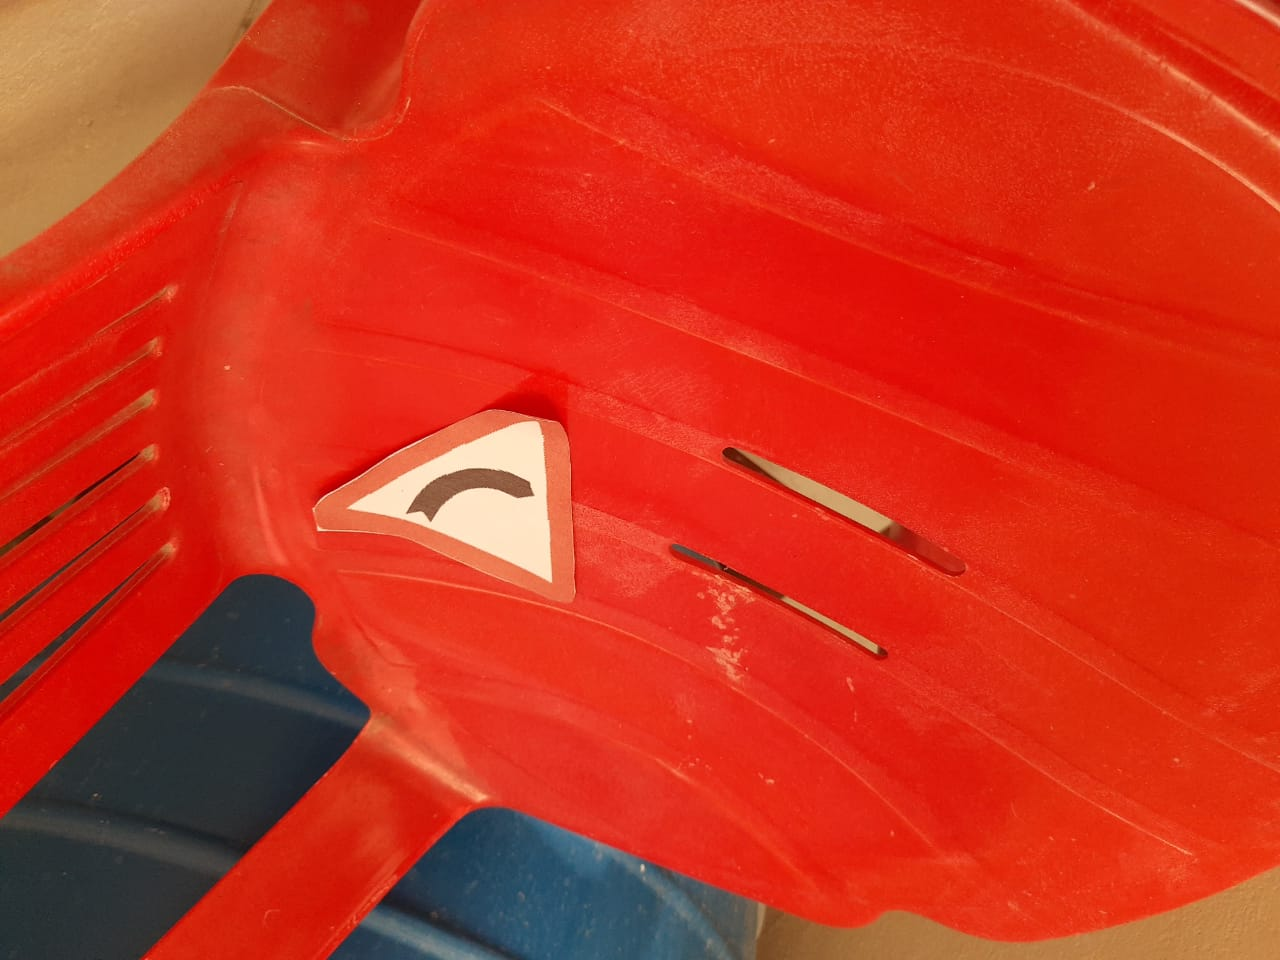RIGHT CURVE: (273, 341, 610, 610)
